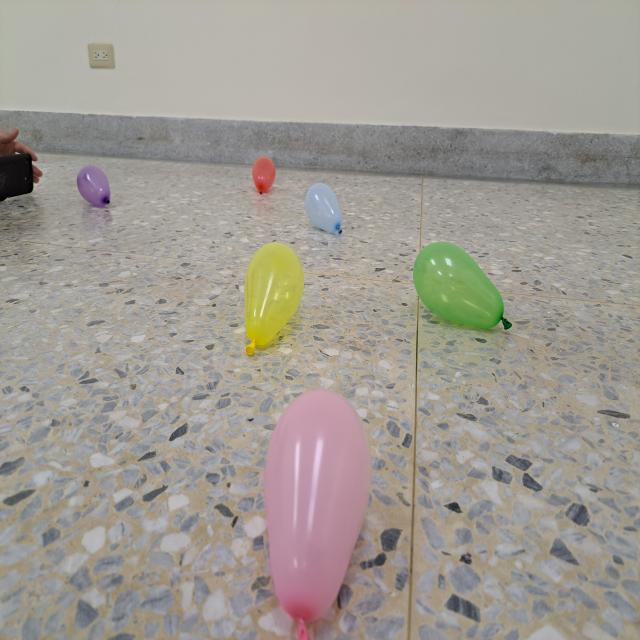other: (263, 387, 370, 640), (412, 240, 512, 333), (244, 242, 305, 356), (305, 182, 344, 235), (76, 165, 112, 208)
red: (252, 156, 276, 196)
